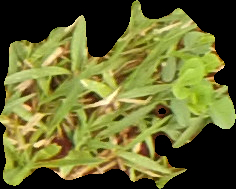grass: (1, 1, 234, 188)
